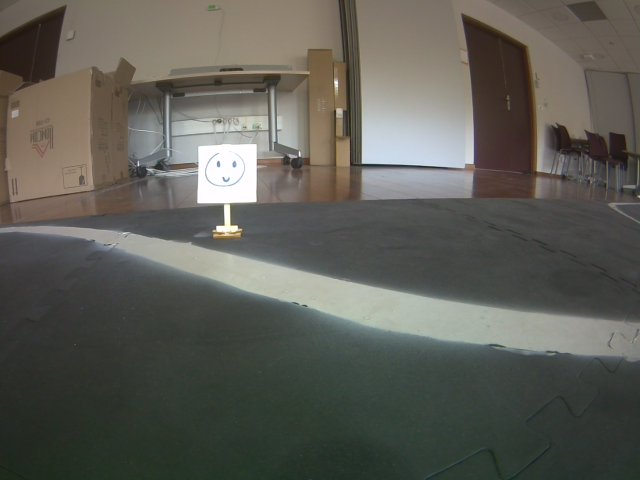Smiley: (194, 141, 260, 205)
